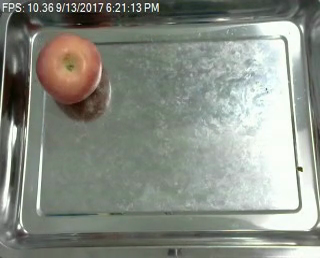Apple: (34, 28, 103, 108)
